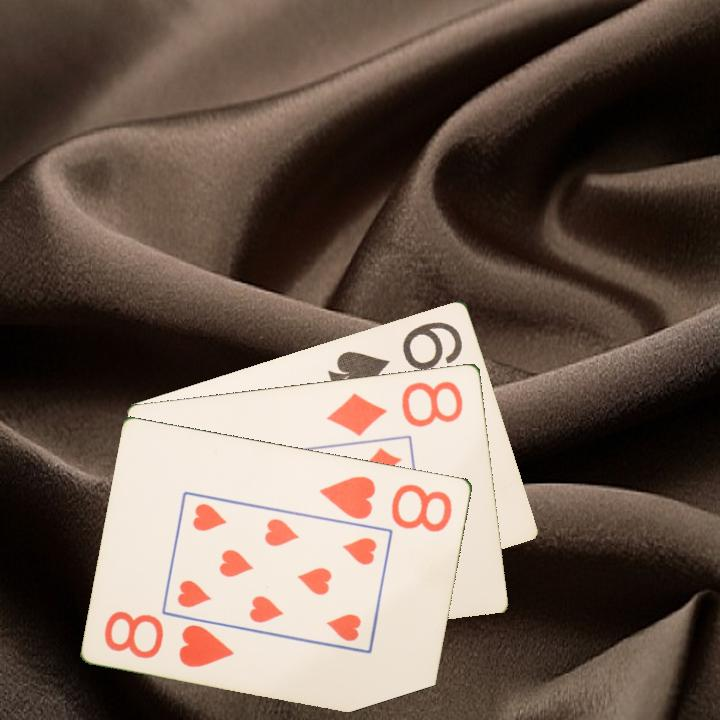6s: (324, 317, 466, 398)
8d: (323, 377, 466, 438)
8h: (316, 472, 456, 535), (101, 606, 238, 670)
